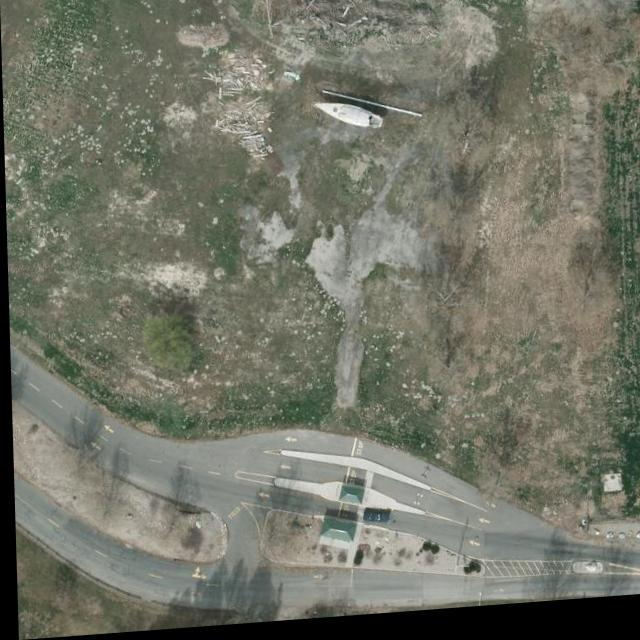vehicle: (359, 513, 389, 533)
